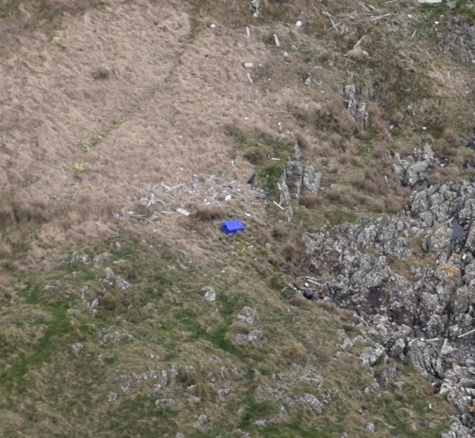white_in_green: (204, 198, 266, 253)
